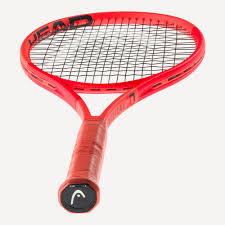tennis racket: (20, 9, 209, 215)
